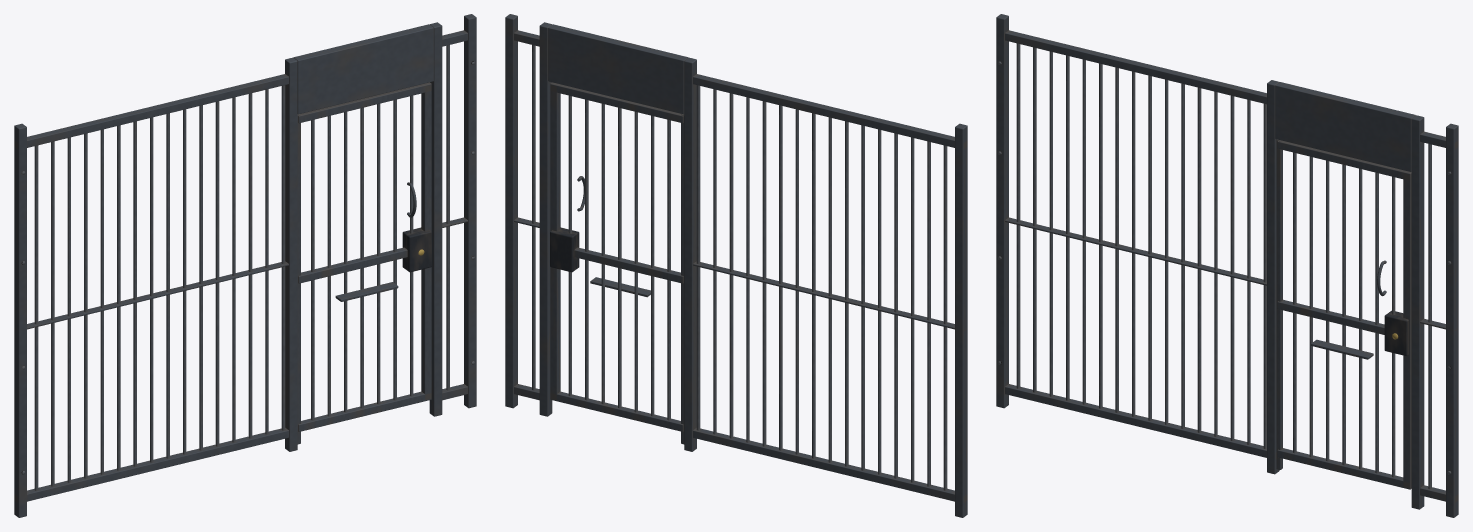
The model's file is kom_krata.glb.
3 renders of one model, left to right at view 1: azimuth 30°, elevation 25°; view 2: azimuth 150°, elevation 25°; view 3: azimuth 330°, elevation 25°, orthographic.
Parts seen in each view (by area): view 1: Krata, Drzwi; view 2: Krata, Drzwi; view 3: Krata, Drzwi.
Part boxes in pixels (x1=…): Krata: x1=14, y1=14, x2=476, y2=517; Drzwi: x1=297, y1=82, x2=431, y2=444; Krata: x1=505, y1=14, x2=967, y2=517; Drzwi: x1=550, y1=82, x2=684, y2=444; Krata: x1=996, y1=14, x2=1458, y2=517; Drzwi: x1=1276, y1=139, x2=1411, y2=489.
Bounding box in the file's own units: 3.2 × 2.6 × 0.1664.
2 materials, 2 textured.
